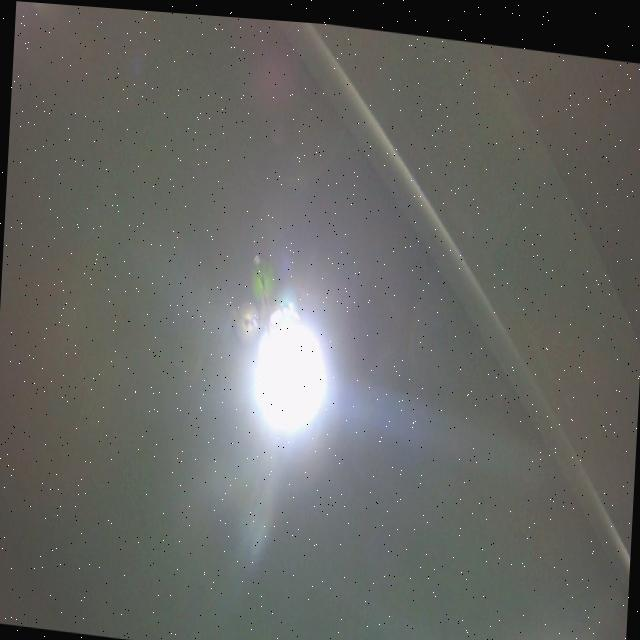drone: (227, 243, 304, 370)
